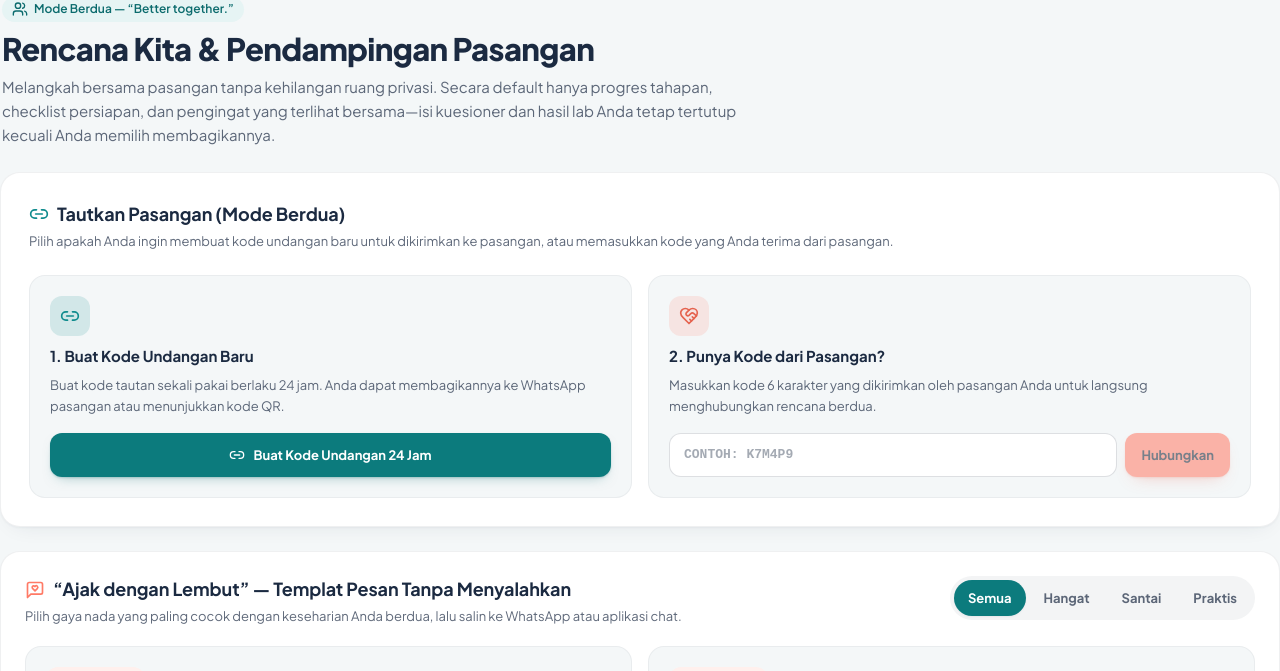
Test: Uji Alur Utama, Privasi & Aksesibilitas Dasar (Side by Side) › Alur 2: Mode Berdua menautkan kode pasangan nyata via API dan menjaga privasi jawaban/lab secara default (OFF)
Click the button with aria-label "Tautkan / Buat Kode 24 Jam" at coordinates (330, 455), box [50,433,611,477]
(page scrolled)
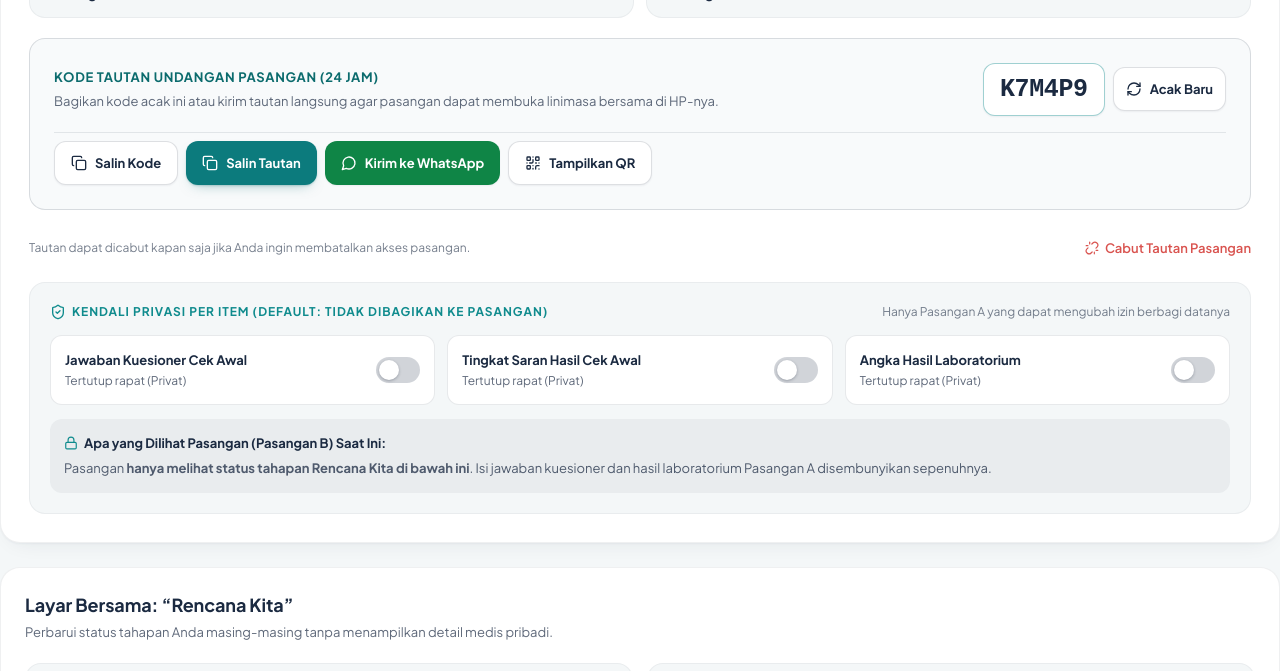
Expected: the heading "Layar Bersama: “Rencana Kita”" is shown, [25,593,294,616]
Expected: the text "K7M4P9" is shown, [983,63,1105,116]
Expected: the text "hanya melihat status tahapan Rencana Kita di bawah ini" is shown, [126,460,470,476]
